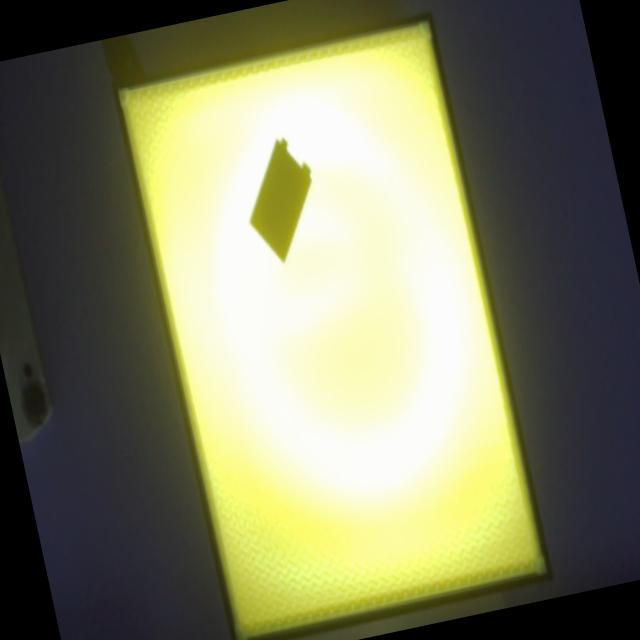bateria: (249, 137, 312, 263)
mesa: (110, 13, 554, 640)
